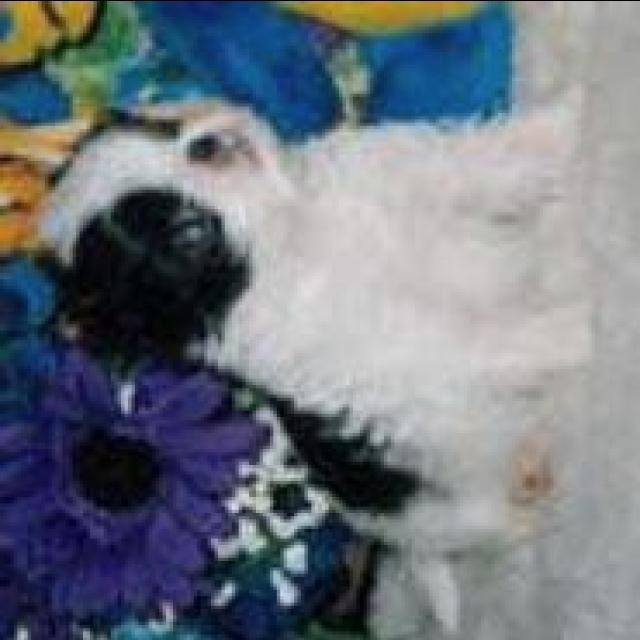husky: (24, 74, 636, 636)
